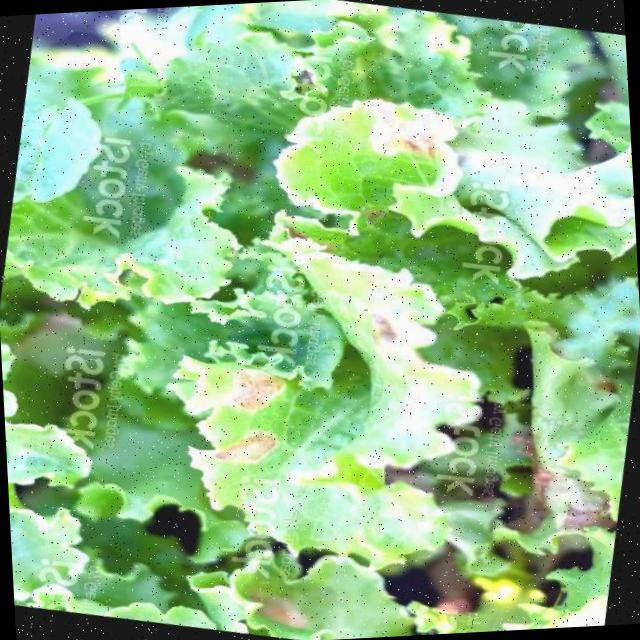Healthy: (180, 236, 464, 572), (269, 76, 479, 233)
